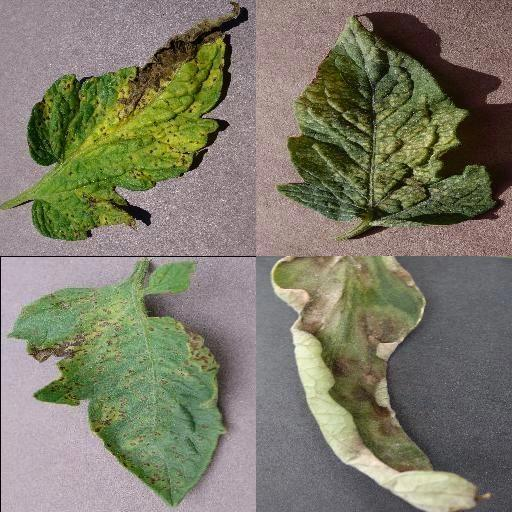Late Blight: (272, 256, 492, 512)
Septoria: (6, 284, 229, 508), (26, 5, 226, 239)
Spider Mites: (276, 14, 494, 228)
